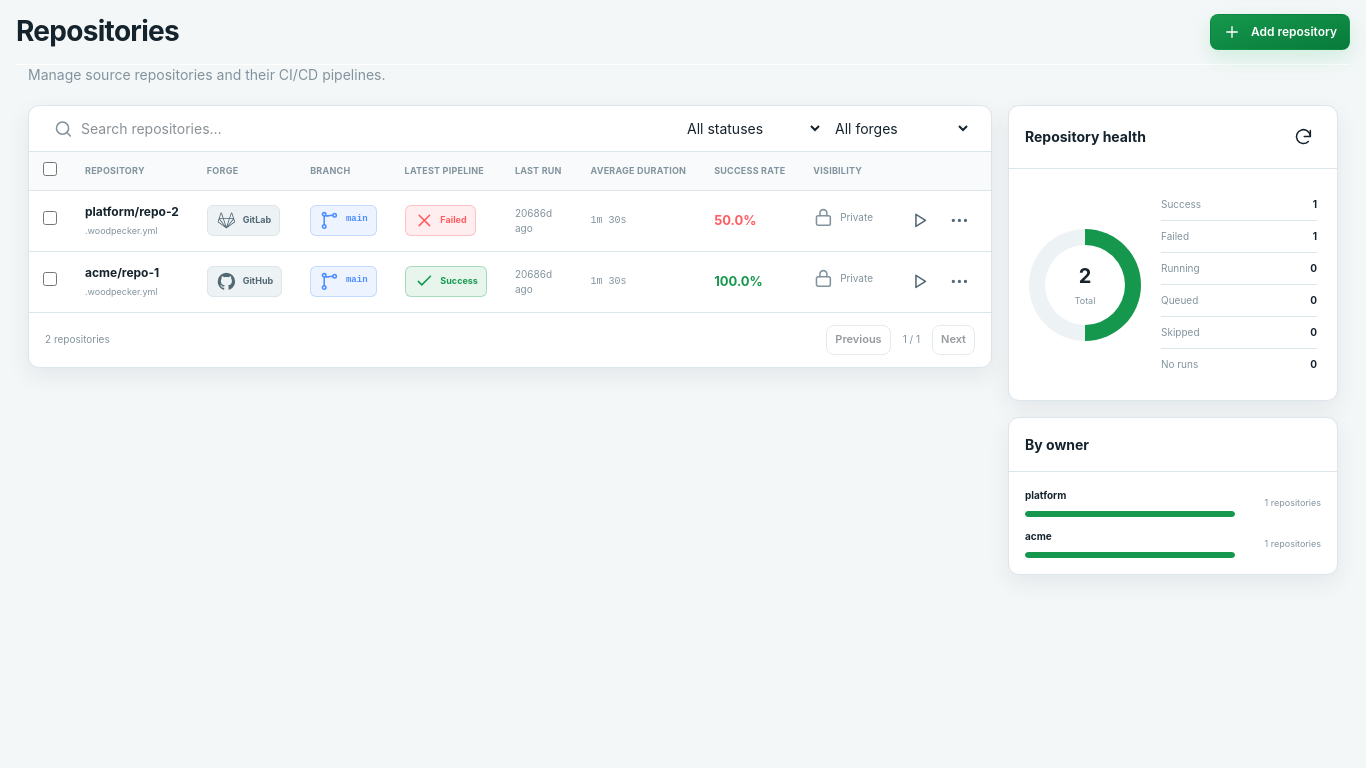
Scenario: repositories overview › preserves confirmed rows and metrics through a failed refresh
Click the button titled "Refresh repositories" at (1303, 137), box [1285,119,1321,155]
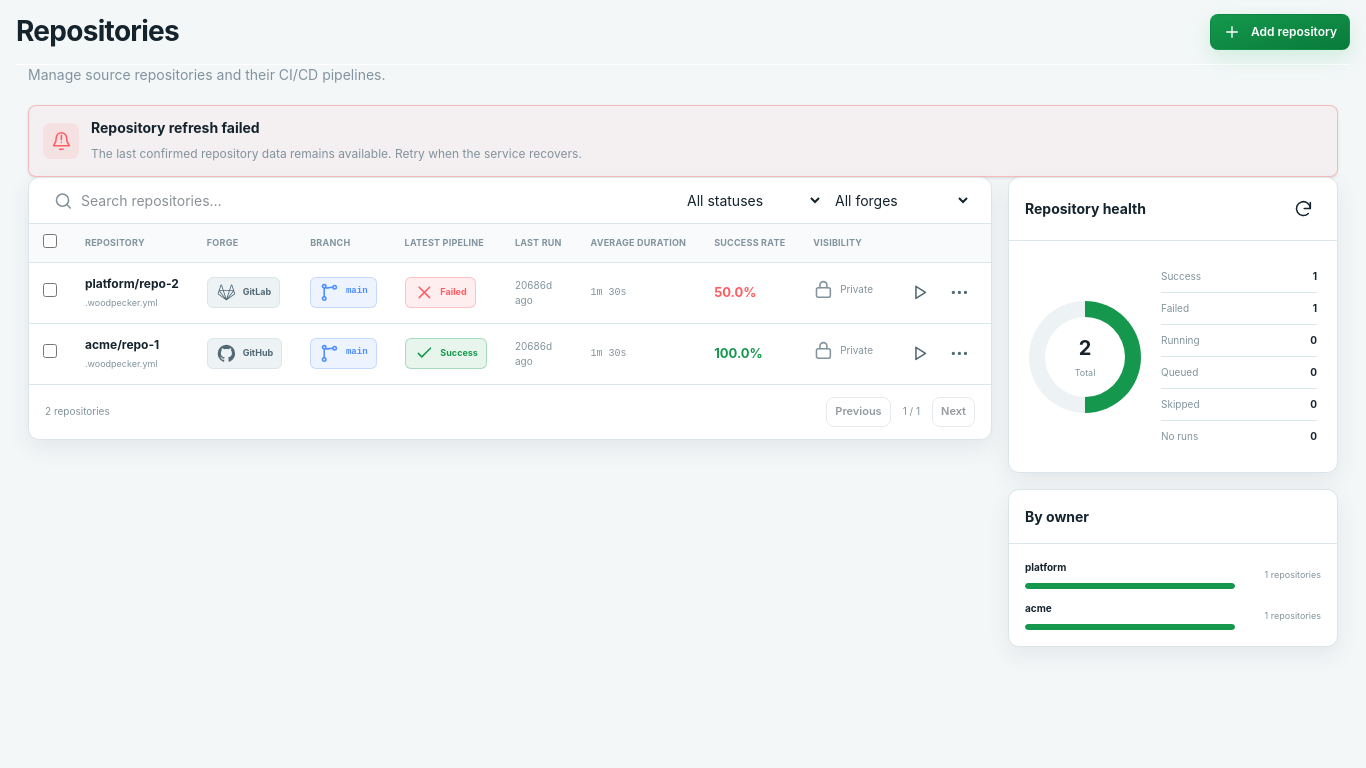
Expected: the text "acme/repo-1" is shown, [85,337,159,352]
Expected: the message shows "The last confirmed repository data", [91,146,582,161]
